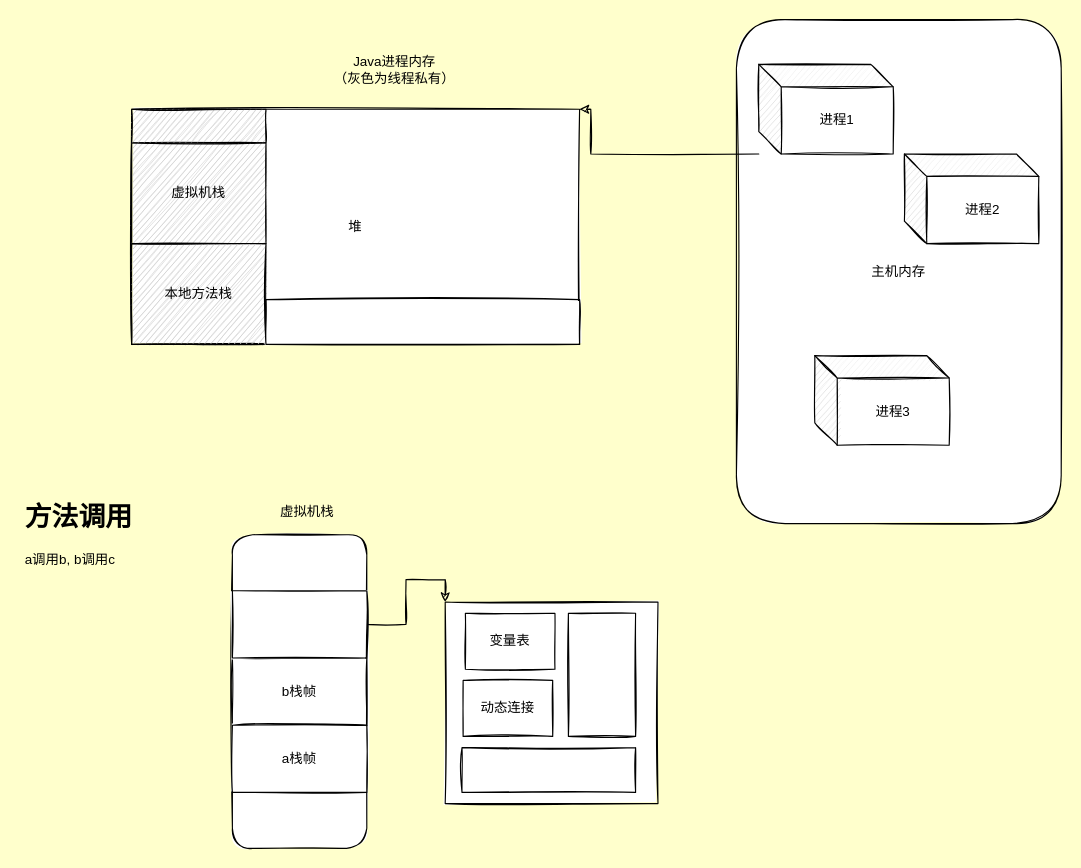
This 1081x868 diagram has some shape labels left out. The centre of each missing label's shape, as x and y in pixels:
c栈帧: the point at 299,624
出口地址: the point at 548,769
操作 数栈: the point at 601,674
方法区: the point at 422,321
程序计数器: the point at 198,125
